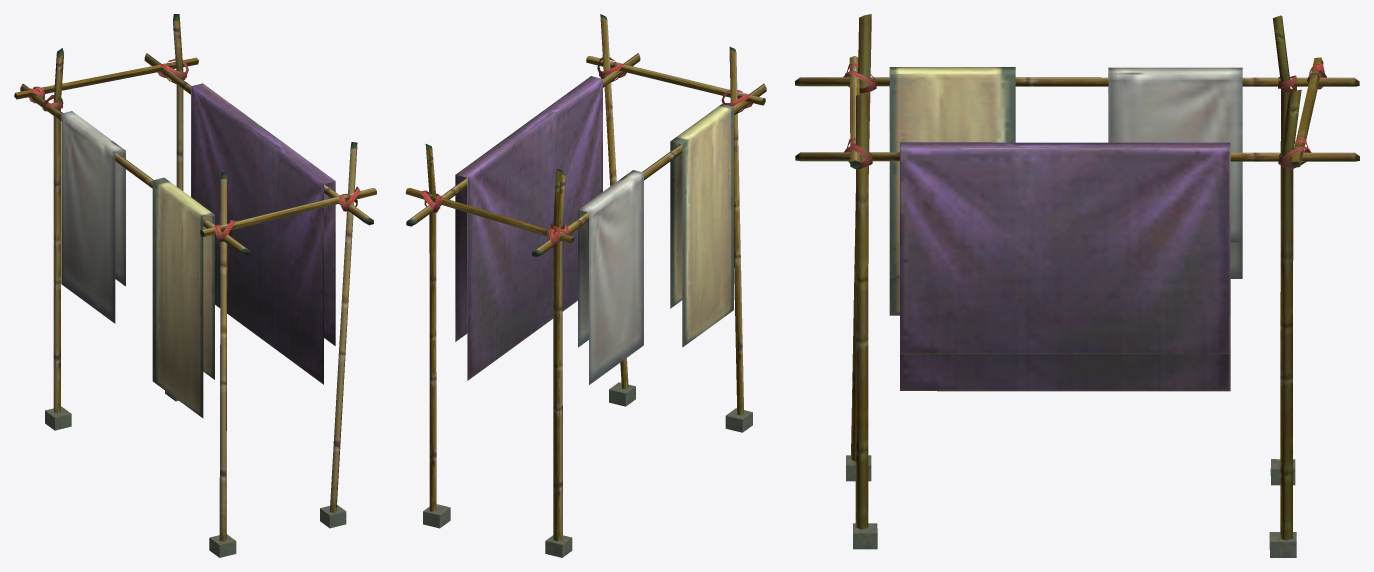
The model's file is DBXJ_06.FBX.
The picture shows the model from 3 angles, left to right: view 1: azimuth 30°, elevation 25°; view 2: azimuth 150°, elevation 25°; view 3: azimuth 270°, elevation 25°; orthographic projection. The views are drawn at different scales.
Visible parts, largest first — view 1: DBXJ_06; view 2: DBXJ_06; view 3: DBXJ_06.
Part boxes in pixels (x1,y1,x2,y2): DBXJ_06: (14, 14, 376, 557); DBXJ_06: (405, 14, 766, 557); DBXJ_06: (795, 14, 1359, 557).
Bounding box in the file's own units: 157 × 327 × 358.
Materials: 1 (1 with a texture image).
